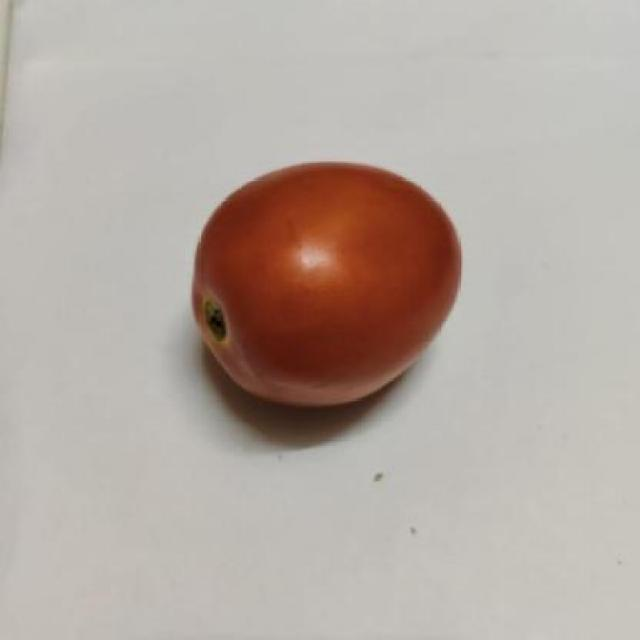Tomato: (173, 157, 472, 431)
